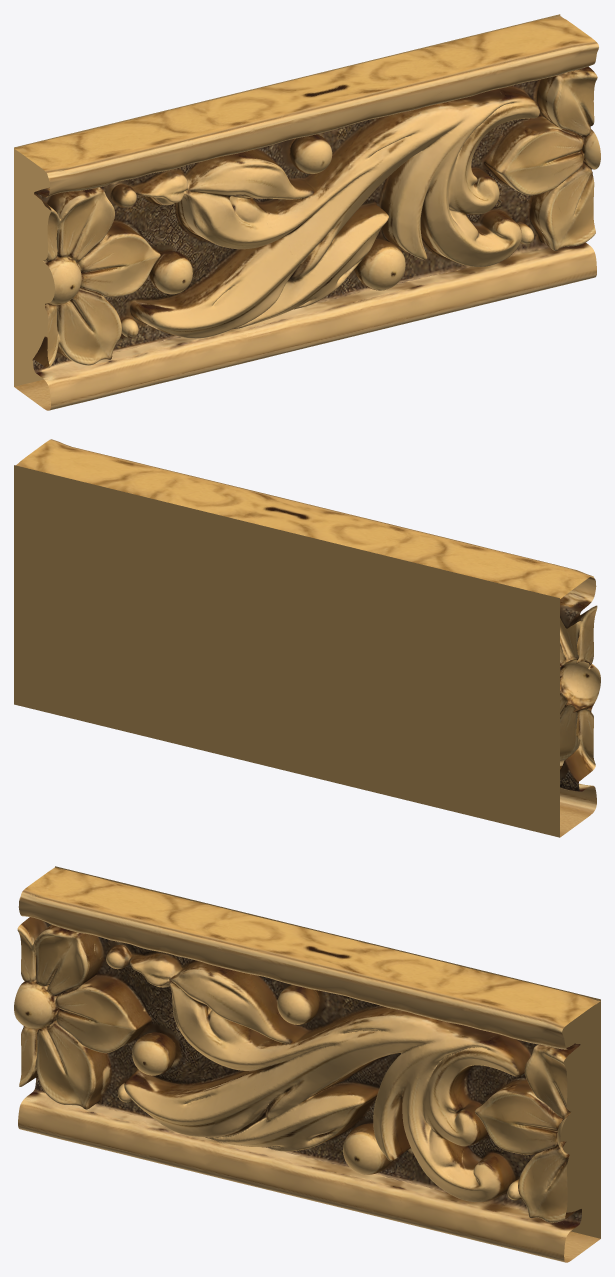
Rendered from band_meshy_tile.glb.
The picture shows the model from 3 angles, top to bottom: view 1: azimuth 30°, elevation 25°; view 2: azimuth 150°, elevation 25°; view 3: azimuth 330°, elevation 25°; orthographic projection.
Visible parts, largest first — view 1: geometry_0; view 2: geometry_0; view 3: geometry_0.
Boxes of the visible parts, <box> form: geometry_0: <box>14,14,600,410</box>; geometry_0: <box>14,439,600,837</box>; geometry_0: <box>14,866,600,1262</box>.
Size of the model in its own units: 0.7283 by 0.3052 by 0.099.
Materials: 1 (1 with a texture image).
